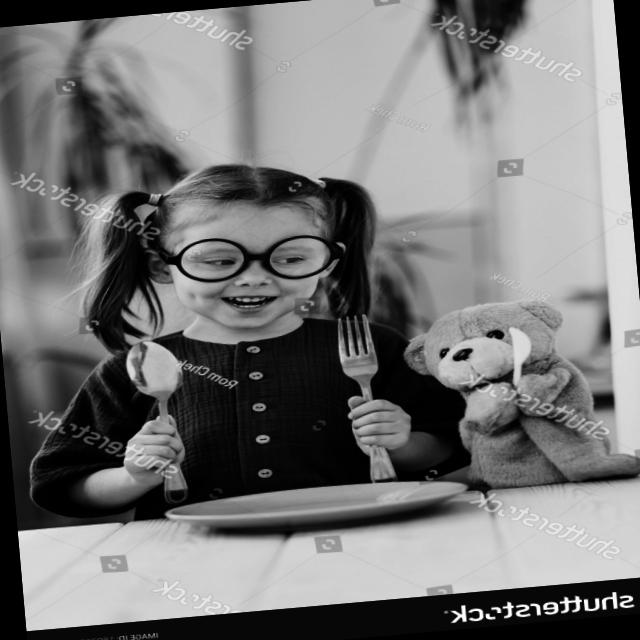fork: (323, 307, 402, 483)
